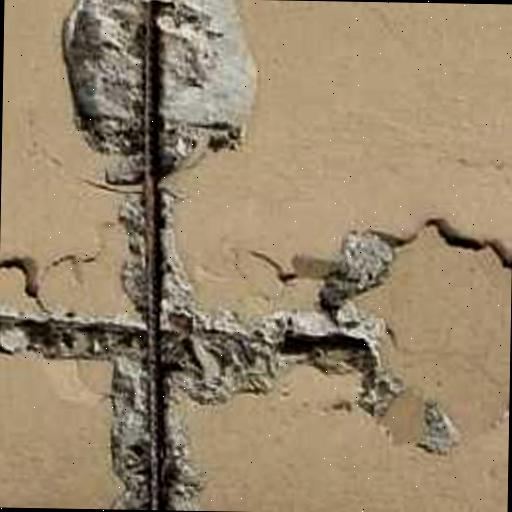spalling: (0, 0, 452, 509)
